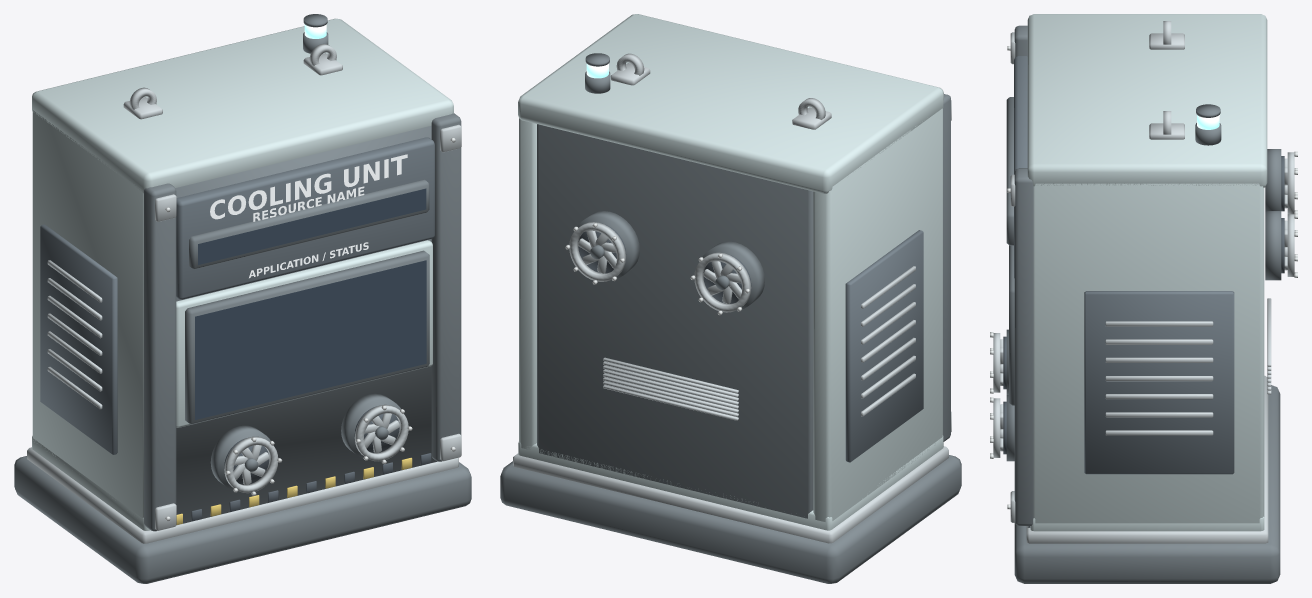
The model's file is cooling_unit_enhanced.glb.
3 views of the same model, side by side, from view 1: azimuth 30°, elevation 25°; view 2: azimuth 150°, elevation 25°; view 3: azimuth 270°, elevation 25° (orthographic). The views are drawn at different scales.
Visible parts, largest first — view 1: Roof_ice, LiveViewSurface_glass, SideWall_ice, SealFront_frame, CornerPost_frame, Skid_frame, FrontHeader_graphite, SideServicePanel_graphite, SkidDeck_steel, LiveViewSurfaceFrame_frame, ResourceNameSurface_glass, ScreenSupport_ice (+13 smaller); view 2: BackWall_frame, Roof_ice, SideWall_ice, Skid_frame, SideServicePanel_graphite, SkidDeck_steel, RearFan_steel, RearVent_steel, KickPlate_ice, RearFan_frame, CornerPost_frame, SideLouver_steel (+3 smaller); view 3: SideWall_ice, Roof_ice, SideServicePanel_graphite, Skid_frame, CornerPost_frame, SideLouver_steel, SkidDeck_steel, RearFan_frame, KickPlate_ice, FrontHeader_graphite, RearFan_steel, IntakeFan_steel (+10 smaller).
Boxes of the visible parts, x1=… form: Roof_ice: x1=32, y1=18, x2=453, y2=193; LiveViewSurface_glass: x1=195, y1=260, x2=426, y2=419; SideWall_ice: x1=32, y1=110, x2=143, y2=520; SealFront_frame: x1=175, y1=125, x2=437, y2=524; CornerPost_frame: x1=144, y1=113, x2=461, y2=531; Skid_frame: x1=14, y1=456, x2=471, y2=583; FrontHeader_graphite: x1=176, y1=137, x2=434, y2=299; SideServicePanel_graphite: x1=40, y1=224, x2=117, y2=454; SkidDeck_steel: x1=27, y1=447, x2=458, y2=543; LiveViewSurfaceFrame_frame: x1=185, y1=250, x2=429, y2=424; ResourceNameSurface_glass: x1=198, y1=188, x2=426, y2=264; ScreenSupport_ice: x1=176, y1=240, x2=432, y2=427; BackWall_frame: x1=537, y1=124, x2=813, y2=518; Roof_ice: x1=518, y1=14, x2=943, y2=193; SideWall_ice: x1=519, y1=108, x2=942, y2=521; Skid_frame: x1=500, y1=455, x2=961, y2=583; SideServicePanel_graphite: x1=845, y1=230, x2=923, y2=462; SkidDeck_steel: x1=513, y1=446, x2=948, y2=543; RearFan_steel: x1=569, y1=222, x2=751, y2=312; RearVent_steel: x1=603, y1=357, x2=738, y2=420; KickPlate_ice: x1=518, y1=435, x2=943, y2=530; RearFan_frame: x1=577, y1=211, x2=764, y2=310; CornerPost_frame: x1=943, y1=94, x2=950, y2=441; SideLouver_steel: x1=861, y1=266, x2=915, y2=416; SideWall_ice: x1=1033, y1=183, x2=1264, y2=523; Roof_ice: x1=1027, y1=14, x2=1267, y2=187; SideServicePanel_graphite: x1=1084, y1=291, x2=1234, y2=474; Skid_frame: x1=1014, y1=385, x2=1280, y2=583; CornerPost_frame: x1=1014, y1=25, x2=1033, y2=525; SideLouver_steel: x1=1105, y1=321, x2=1213, y2=435; SkidDeck_steel: x1=1026, y1=375, x2=1268, y2=543; RearFan_frame: x1=1265, y1=149, x2=1281, y2=280; KickPlate_ice: x1=1030, y1=516, x2=1264, y2=531; FrontHeader_graphite: x1=1014, y1=56, x2=1027, y2=278; RearFan_steel: x1=1284, y1=152, x2=1294, y2=276; IntakeFan_steel: x1=993, y1=333, x2=1003, y2=457.
Bounding box in the file's own units: 2 × 2.48 × 1.55.
